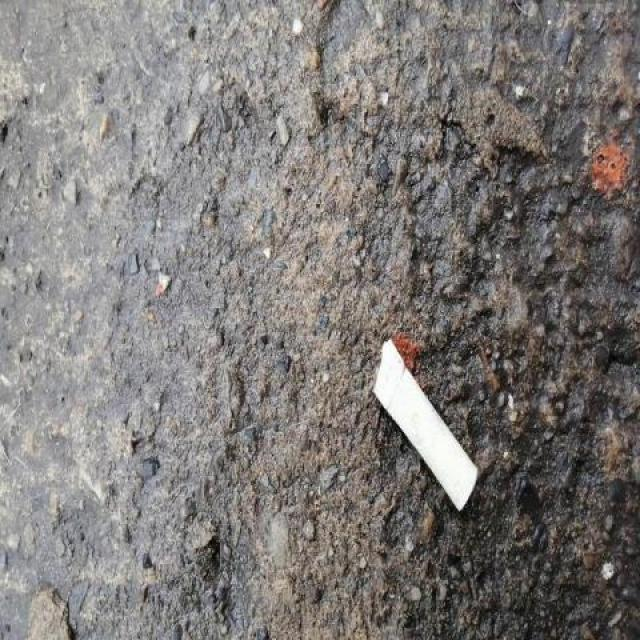non-organic waste: (366, 334, 481, 519)
